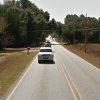Car: (34, 43, 60, 72)
